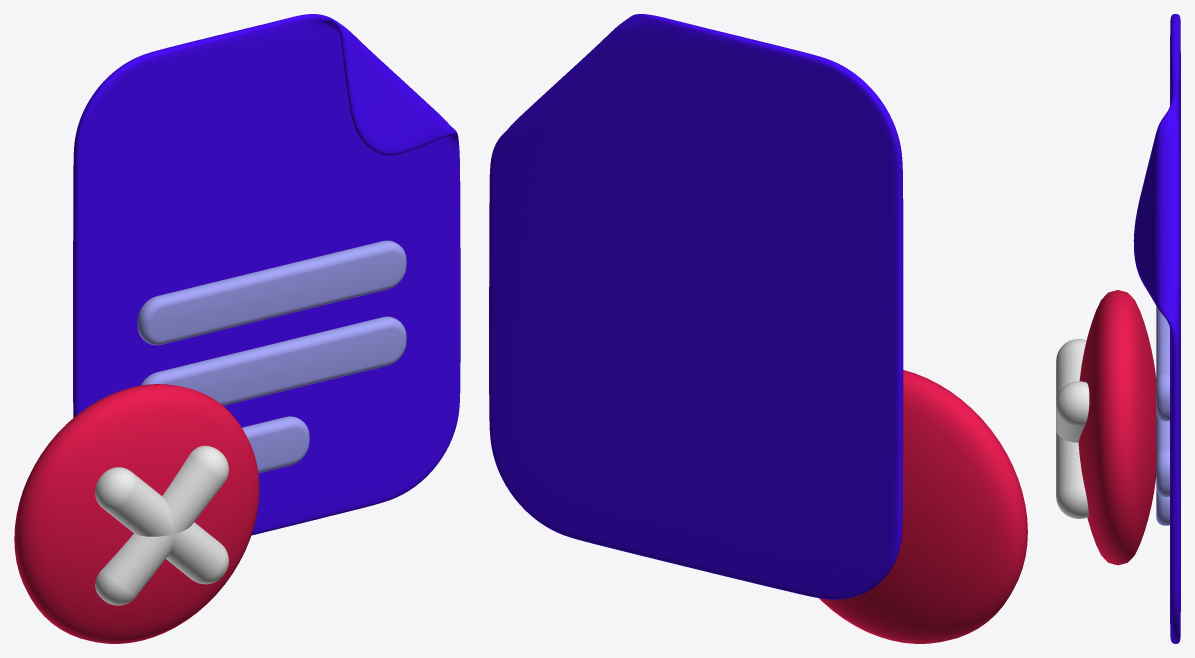
Rendered from discarded-file-3d-animated-icon-1372068767158.glb.
3 views of the same model, side by side, from view 1: azimuth 30°, elevation 25°; view 2: azimuth 150°, elevation 25°; view 3: azimuth 270°, elevation 25° (orthographic). The views are drawn at different scales.
Visible parts, largest first — view 1: File Base.004, Icon Base.002, Text.006, Cross Symbol; view 2: File Base.004, Icon Base.002; view 3: Icon Base.002, File Base.004, Cross Symbol, Text.006.
Boxes of the visible parts, x1,y1,x2,y2 form: File Base.004: [73, 14, 460, 535]; Icon Base.002: [14, 384, 259, 643]; Text.006: [137, 240, 406, 473]; Cross Symbol: [95, 445, 228, 605]; File Base.004: [489, 14, 903, 599]; Icon Base.002: [819, 370, 1027, 643]; Icon Base.002: [1078, 290, 1156, 565]; File Base.004: [1133, 14, 1180, 643]; Cross Symbol: [1056, 339, 1089, 518]; Text.006: [1156, 306, 1169, 525].
Size of the model in its own units: 1.95 by 2.19 by 0.4474.
